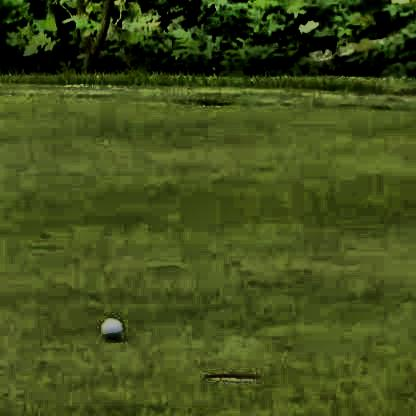golfball: (97, 313, 120, 338)
